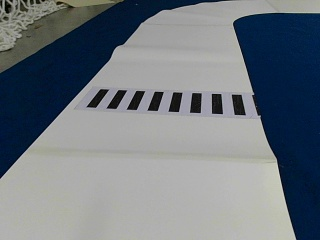crosswalk: (88, 88, 245, 116)
